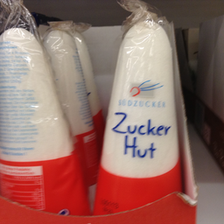tomato_sauce: (89, 17, 183, 214), (1, 28, 88, 213), (45, 26, 100, 183)
